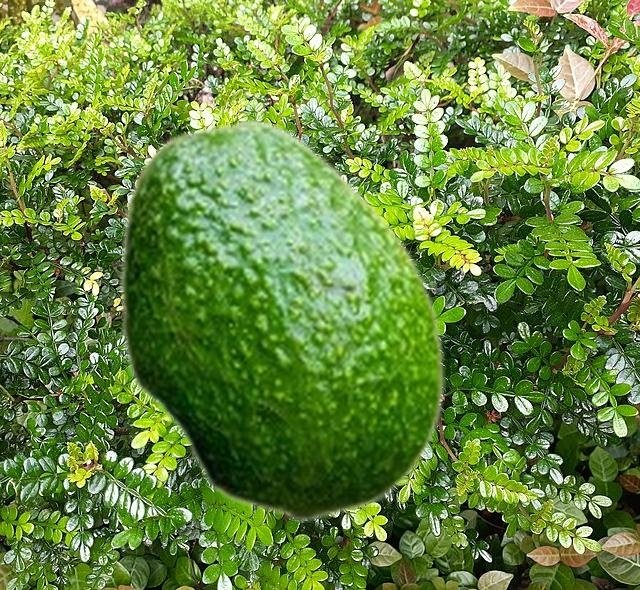avocado: (117, 116, 444, 521)
